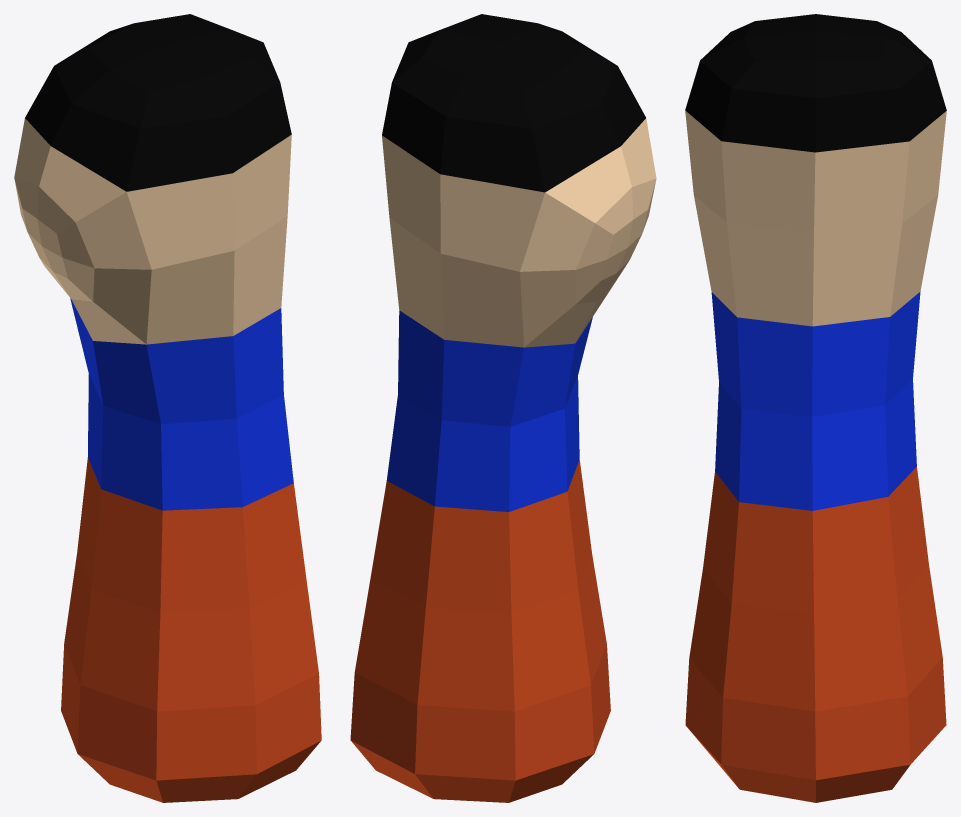
The model's file is settler_default.fbx.
The picture shows the model from 3 angles, left to right: view 1: azimuth 30°, elevation 25°; view 2: azimuth 150°, elevation 25°; view 3: azimuth 270°, elevation 25°; orthographic projection.
Parts seen in each view (by area): view 1: Cube; view 2: Cube; view 3: Cube.
Boxes of the visible parts, x1,y1,x2,y2 form: Cube: [14, 14, 321, 802]; Cube: [350, 14, 656, 802]; Cube: [685, 14, 946, 802].
Bounding box in the file's own units: 55.14 × 146 × 47.12.
